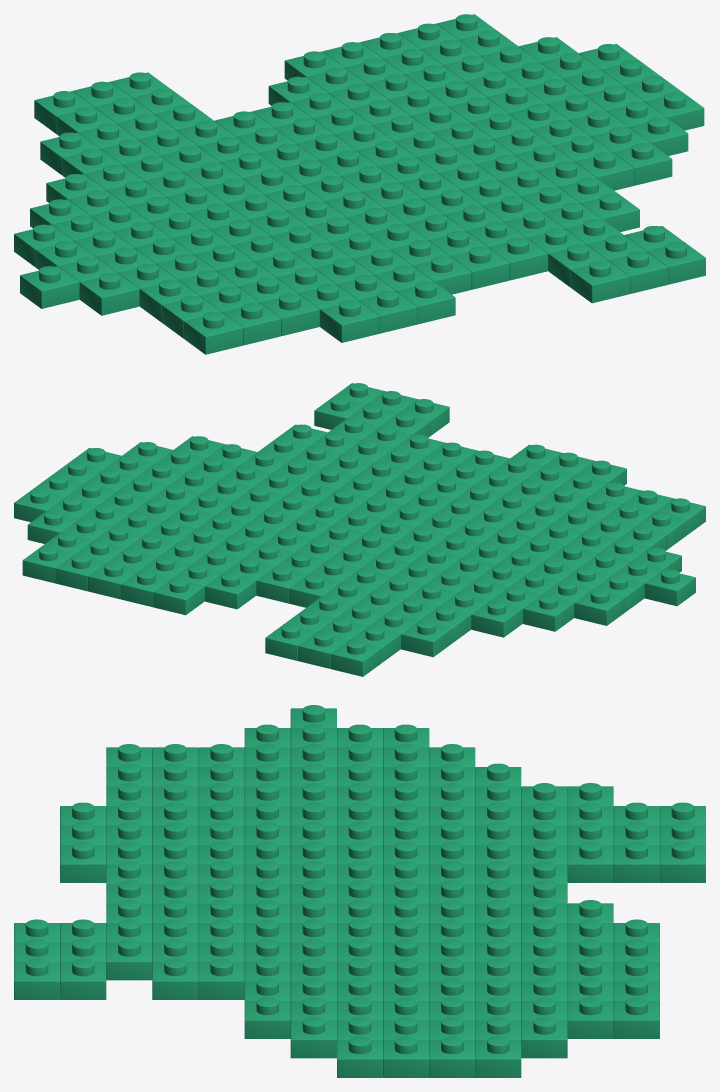
Rendered from NorthernEurope.fbx.
The picture shows the model from 3 angles, top to bottom: view 1: azimuth 30°, elevation 25°; view 2: azimuth 150°, elevation 25°; view 3: azimuth 270°, elevation 25°; orthographic projection. The views are drawn at different scales.
Visible parts, largest first — view 1: Cube_88; view 2: Cube_88; view 3: Cube_88.
Boxes of the visible parts, left/top/right/bottom form: Cube_88: left=14, top=14, right=705, bottom=354; Cube_88: left=14, top=383, right=705, bottom=676; Cube_88: left=14, top=705, right=705, bottom=1077.
Bounding box in the file's own units: 1800 × 65.03 × 1500.
